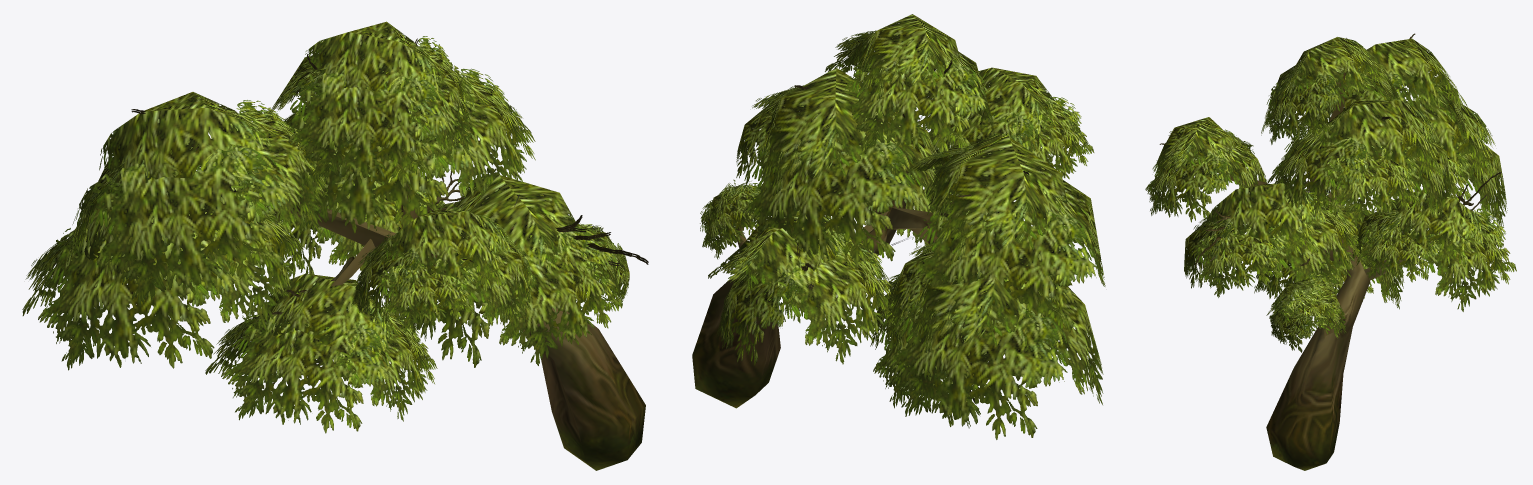
The model's file is DN_lv2_hdtree01.FBX.
3 renders of one model, left to right at view 1: azimuth 30°, elevation 25°; view 2: azimuth 150°, elevation 25°; view 3: azimuth 270°, elevation 25°, orthographic. The views are drawn at different scales.
Visible parts, largest first — view 1: DN_lv2_hdtree01; view 2: DN_lv2_hdtree01; view 3: DN_lv2_hdtree01.
Boxes of the visible parts, left/top/right/bottom form: DN_lv2_hdtree01: left=22, top=21, right=648, bottom=470; DN_lv2_hdtree01: left=692, top=14, right=1105, bottom=439; DN_lv2_hdtree01: left=1145, top=33, right=1516, bottom=470.
Size of the model in its own units: 815 by 731 by 704.
